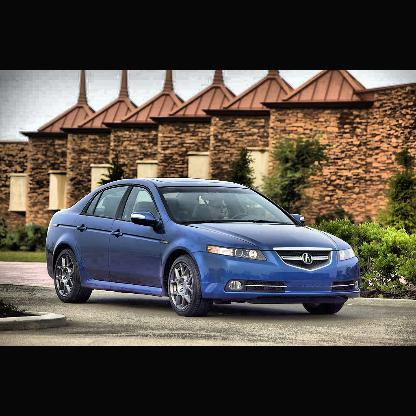Acura TL Type-S 2008: (45, 176, 364, 317)
